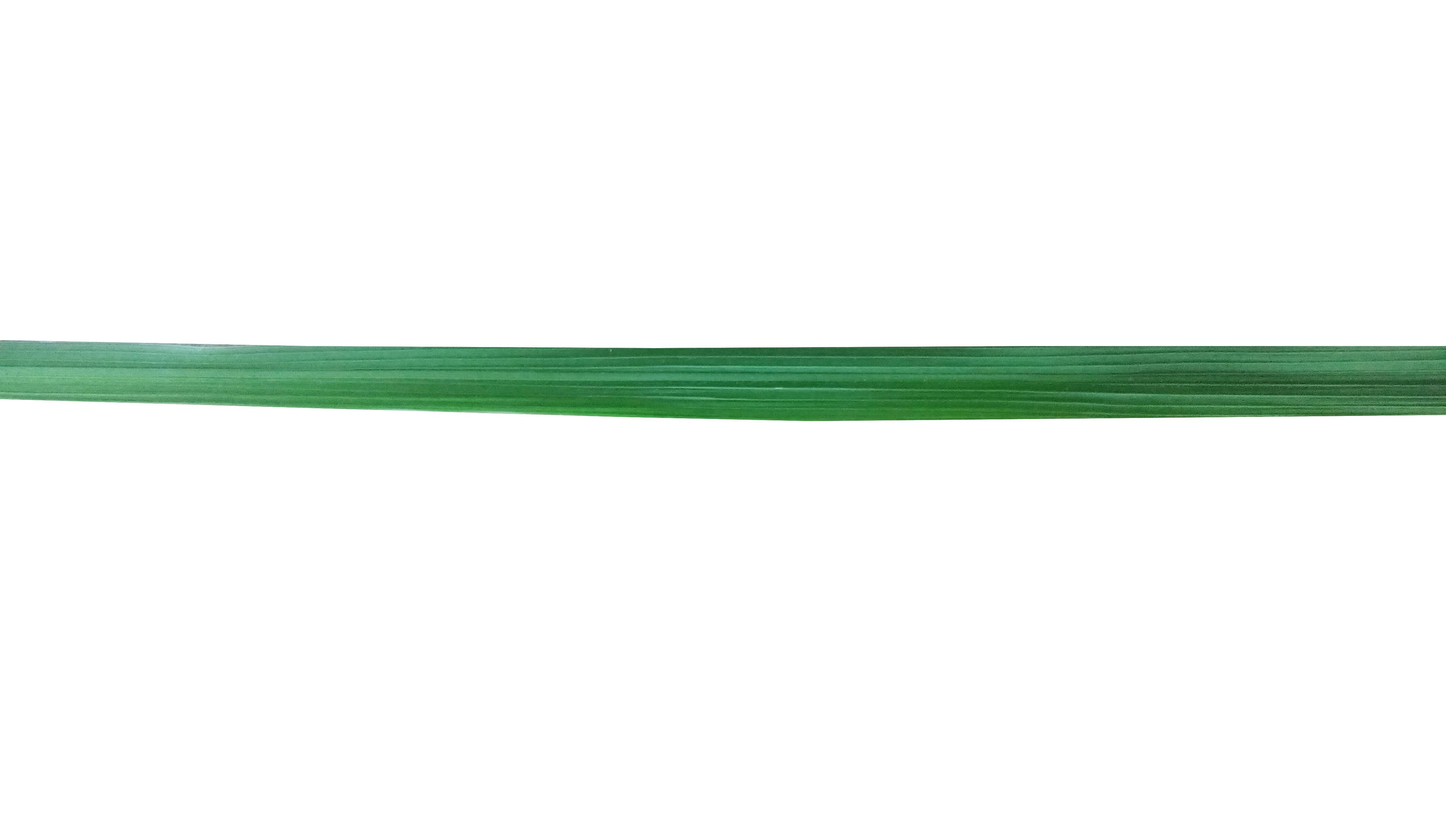Healthy: (0, 339, 1446, 420)
